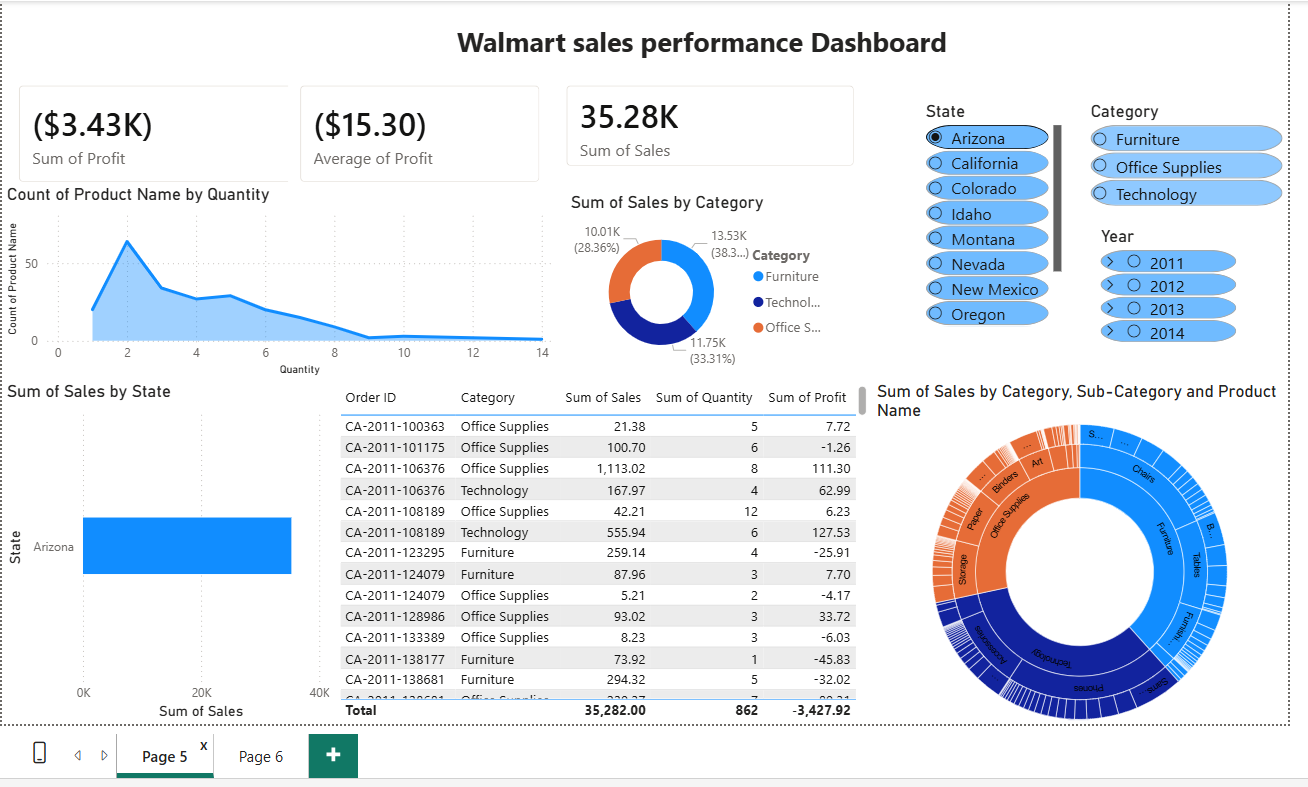

What the dashboard file says about the page in this screenshot:
{"tool":"powerbi","page":{"name":"Page 5","canvas":[1280,720],"ordinal":0},"visuals":[{"type":"Sunburst1445472000808","fields":{"Values":["Sum(Walmart.Sales)"],"Nodes":["Walmart.Category","Walmart.Sub-Category","Walmart.Product Name"]},"box":[865.8,378.2,414.2,342.1],"z":0},{"type":"barChart","fields":{"Category":["Walmart.State"],"Y":["Sum(Walmart.Sales)"]},"box":[0,378.2,330.9,342.1],"z":1000},{"type":"tableEx","fields":{"Values":["Walmart.Order ID","Walmart.Category","Sum(Walmart.Sales)","Sum(Walmart.Quantity)","Sum(Walmart.Profit)"]},"box":[330.9,378.2,534.9,342.1],"z":2000},{"type":"donutChart","fields":{"Category":["Walmart.Category"],"Y":["Sum(Walmart.Sales)"]},"box":[561,190.3,268.7,180.4],"z":3000},{"type":"cardVisual","fields":{"Data":["Sum(Walmart.Profit)"]},"box":[0,67.2,384.4,130.6],"z":4000},{"type":"areaChart","fields":{"Y":["CountNonNull(Walmart.Product Name)"],"Category":["Walmart.Quantity"]},"box":[0,181.6,552.3,196.5],"z":5000},{"type":"cardVisual","fields":{"Data":["Avg(Walmart.Profit)"]},"box":[279.9,67.2,272.4,130.6],"z":6000},{"type":"textbox","box":[447.8,17.4,689.2,64.7],"z":7000},{"type":"listSlicer","fields":{"Values":["Walmart.State"]},"box":[914.3,99.5,145.5,233.9],"z":8000},{"type":"listSlicer","fields":{"Values":["Walmart.Category"]},"box":[1078.5,99.5,201.5,250],"z":9000},{"type":"listSlicer","fields":{"Values":["Walmart.Order Date.Variation.Date Hierarchy.Year","Walmart.Order Date.Variation.Date Hierarchy.Quarter","Walmart.Order Date.Variation.Date Hierarchy.Month","Walmart.Order Date.Variation.Date Hierarchy.Day"]},"box":[1088.5,223.9,145.5,217.7],"z":10000},{"type":"cardVisual","fields":{"Data":["Sum(Walmart.Sales)"]},"box":[544.9,67.2,320.9,114.4],"z":11000}]}

Visuals, with their boxes on the page's 1280x720 design canvas (x1, y1, x2, y2). These are canvas units, not pixel positions in the 1308x787 screenshot, which may show the page scaled, cropped or inside an application window:
Sunburst1445472000808 - Sum(Walmart.Sales) x Walmart.Category: (866,378,1280,720)
barChart - Walmart.State x Sum(Walmart.Sales): (0,378,331,720)
tableEx - Walmart.Order ID x Walmart.Category: (331,378,866,720)
donutChart - Walmart.Category x Sum(Walmart.Sales): (561,190,830,371)
cardVisual - Sum(Walmart.Profit): (0,67,384,198)
areaChart - CountNonNull(Walmart.Product Name) x Walmart.Quantity: (0,182,552,378)
cardVisual - Avg(Walmart.Profit): (280,67,552,198)
textbox: (448,17,1137,82)
listSlicer - Walmart.State: (914,100,1060,333)
listSlicer - Walmart.Category: (1078,100,1280,350)
listSlicer - Walmart.Order Date.Variation.Date Hierarchy.Year x Walmart.Order Date.Variation.Date Hierarchy.Quarter: (1088,224,1234,442)
cardVisual - Sum(Walmart.Sales): (545,67,866,182)
